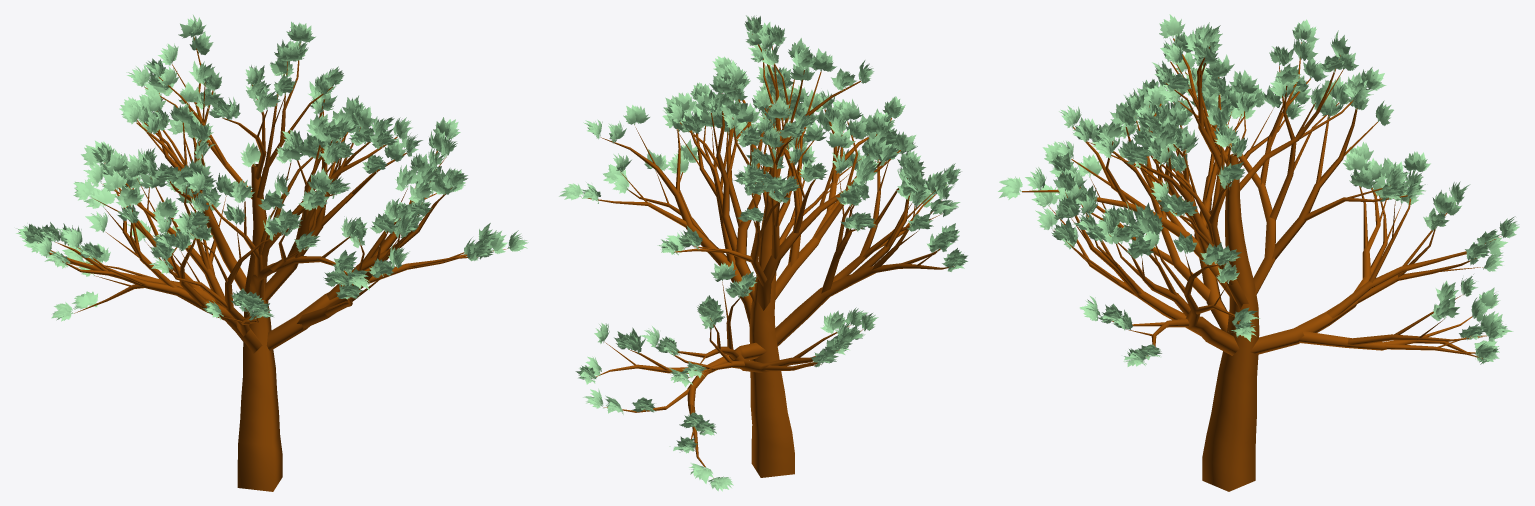
Rendered from FinalTree32.fbx.
The picture shows the model from 3 angles, left to right: view 1: azimuth 30°, elevation 25°; view 2: azimuth 150°, elevation 25°; view 3: azimuth 270°, elevation 25°; orthographic projection. The views are drawn at different scales.
Parts seen in each view (by area): view 1: Árbol; view 2: Árbol; view 3: Árbol.
Part boxes in pixels (<box>): Árbol: <box>38,37,507,491</box>; Árbol: <box>588,34,953,478</box>; Árbol: <box>1022,38,1500,491</box>.
Size of the model in its own units: 705 by 711 by 716.
